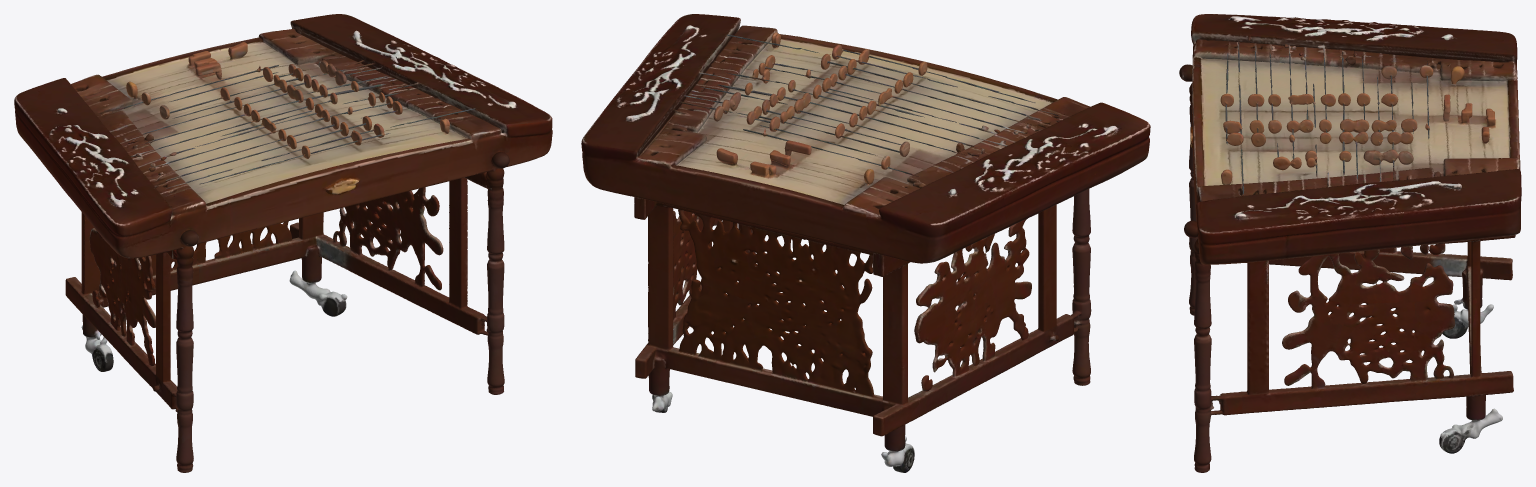
File: yangqin.glb
The picture shows the model from 3 angles, left to right: view 1: azimuth 30°, elevation 25°; view 2: azimuth 150°, elevation 25°; view 3: azimuth 270°, elevation 25°; orthographic projection. The views are drawn at different scales.
Parts seen in each view (by area): view 1: tripo_node_17eb8c07-1ea6-4e36-8c06-ed13be4a2f7c; view 2: tripo_node_17eb8c07-1ea6-4e36-8c06-ed13be4a2f7c; view 3: tripo_node_17eb8c07-1ea6-4e36-8c06-ed13be4a2f7c.
Part boxes in pixels (x1,y1,x2,y2): tripo_node_17eb8c07-1ea6-4e36-8c06-ed13be4a2f7c: (14, 14, 552, 472); tripo_node_17eb8c07-1ea6-4e36-8c06-ed13be4a2f7c: (581, 14, 1150, 472); tripo_node_17eb8c07-1ea6-4e36-8c06-ed13be4a2f7c: (1179, 14, 1521, 472).
Size of the model in its own units: 50 by 30.83 by 32.97.
1 material, 1 textured.
